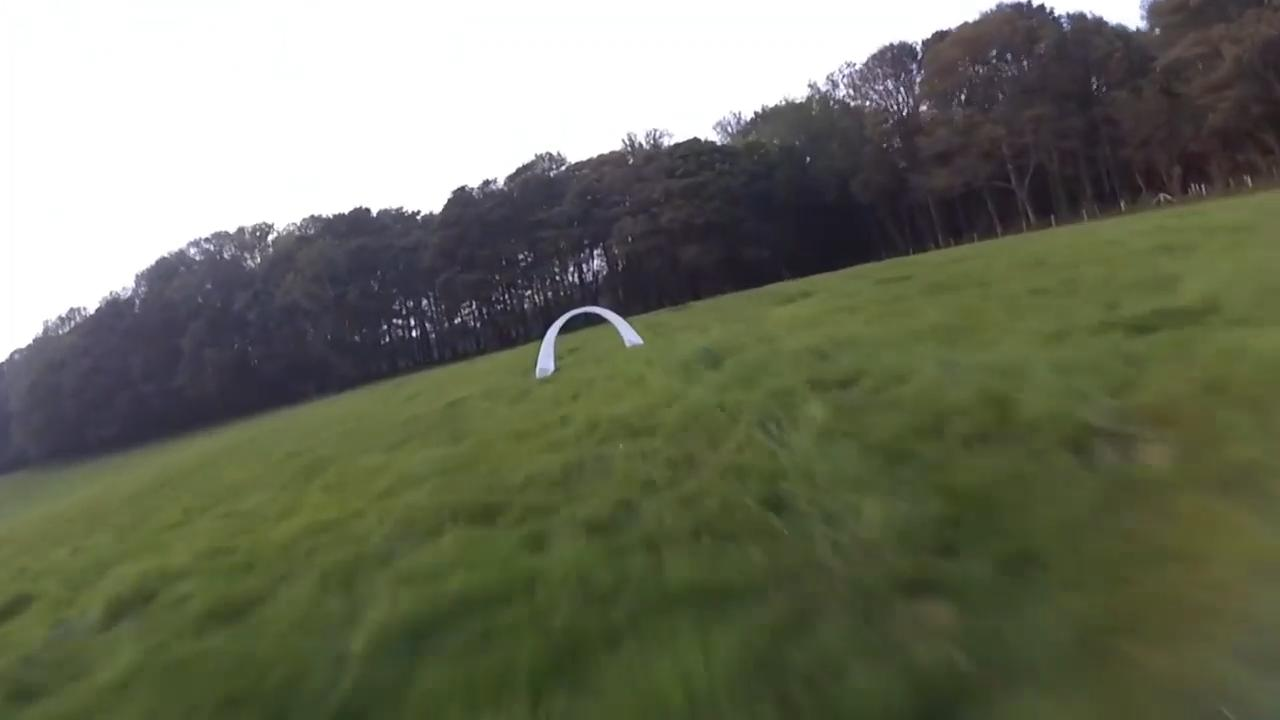gate: (534, 307, 643, 380)
